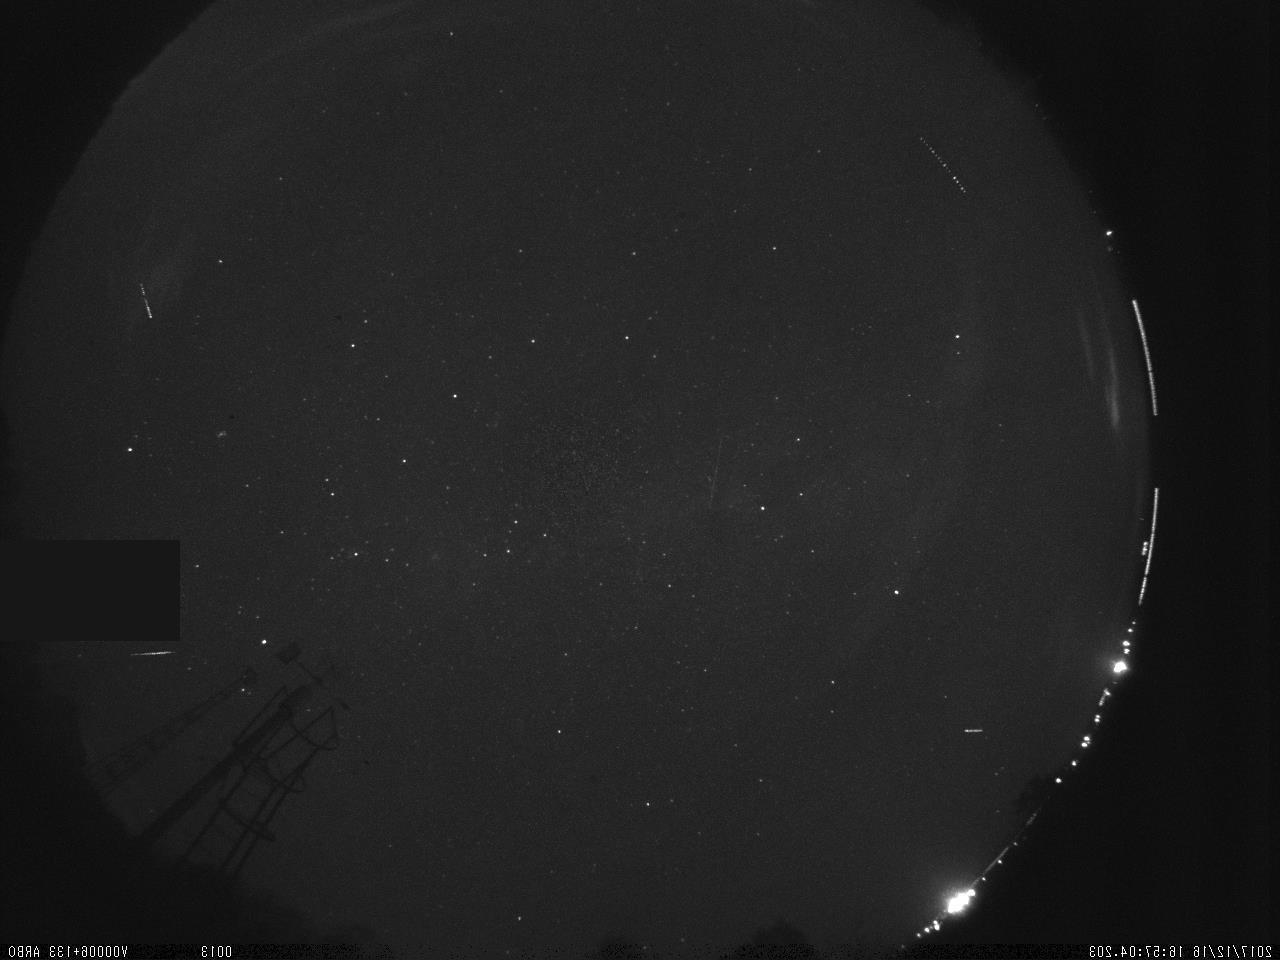meteor: (120, 645, 184, 662)
satelite: (912, 129, 974, 203), (133, 278, 158, 327), (959, 721, 991, 739)
